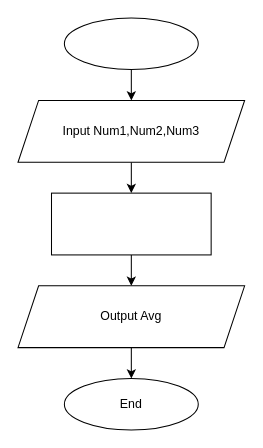
Some shapes in this 263 by 448 pixel diagram are drawn without their labels. The box of each missing label's shape, as (x1, y1, x2, y2) in pixels:
Avg = (Num1+Num2+Num3)/3: (50, 192, 211, 255)
Start: (63, 17, 198, 70)
